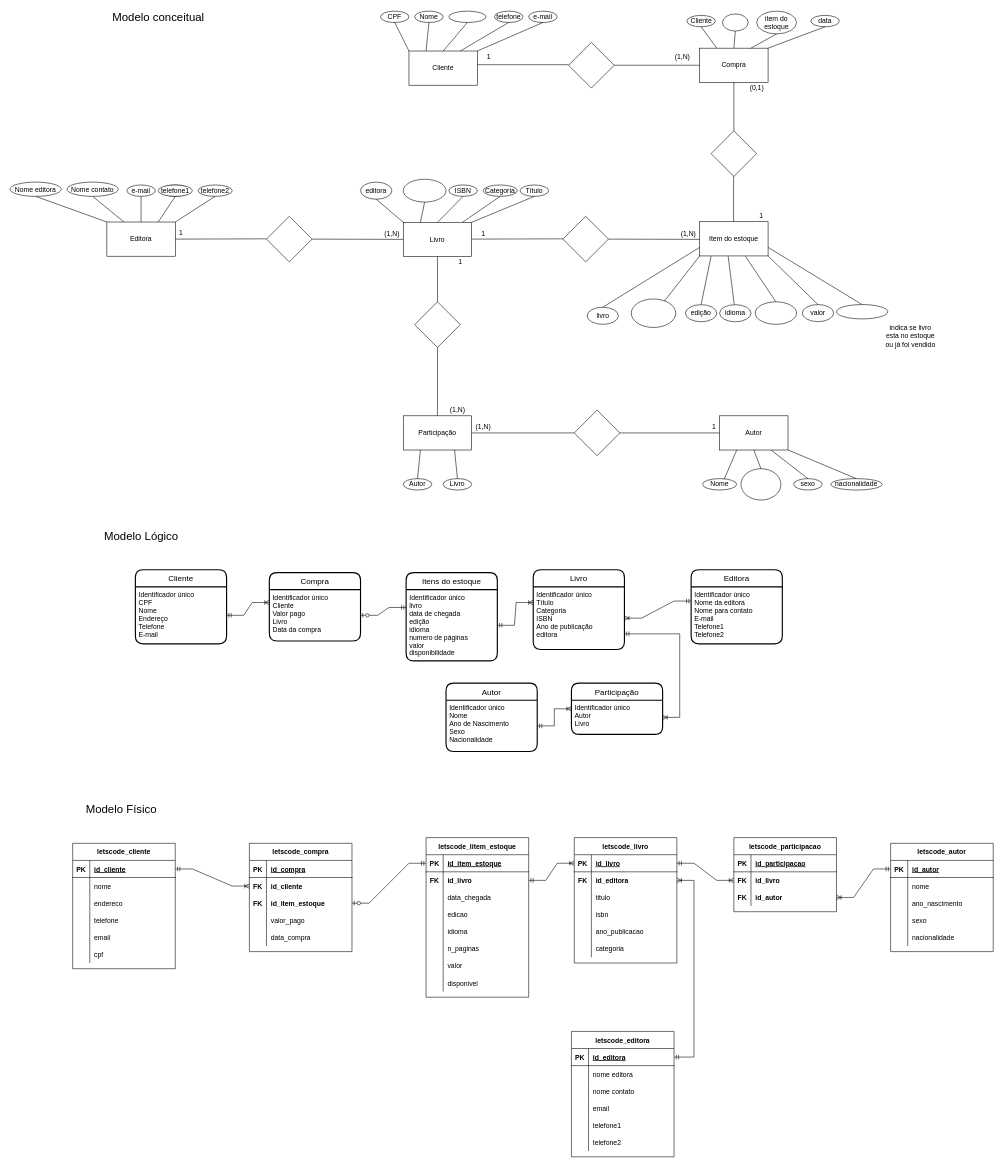
Image size: 1003x1167. Some labels were removed from this diagram. The shapes that lost their labels are listed below. From the top down, each one's centre as x and y in pixels, then its label:
the point at 467,17: Endereço
the point at 735,22: valor pago
the point at 591,65: realiza
the point at 734,153: esta
the point at 424,190: Ano de publicação
the point at 289,239: Distribui
the point at 585,239: representam
the point at 437,324: contém
the point at 653,312: data de chegada no estoque
the point at 776,312: numero de páginas
the point at 862,311: disponibilidade
the point at 597,433: escreve
the point at 760,484: Ano de nascimento
